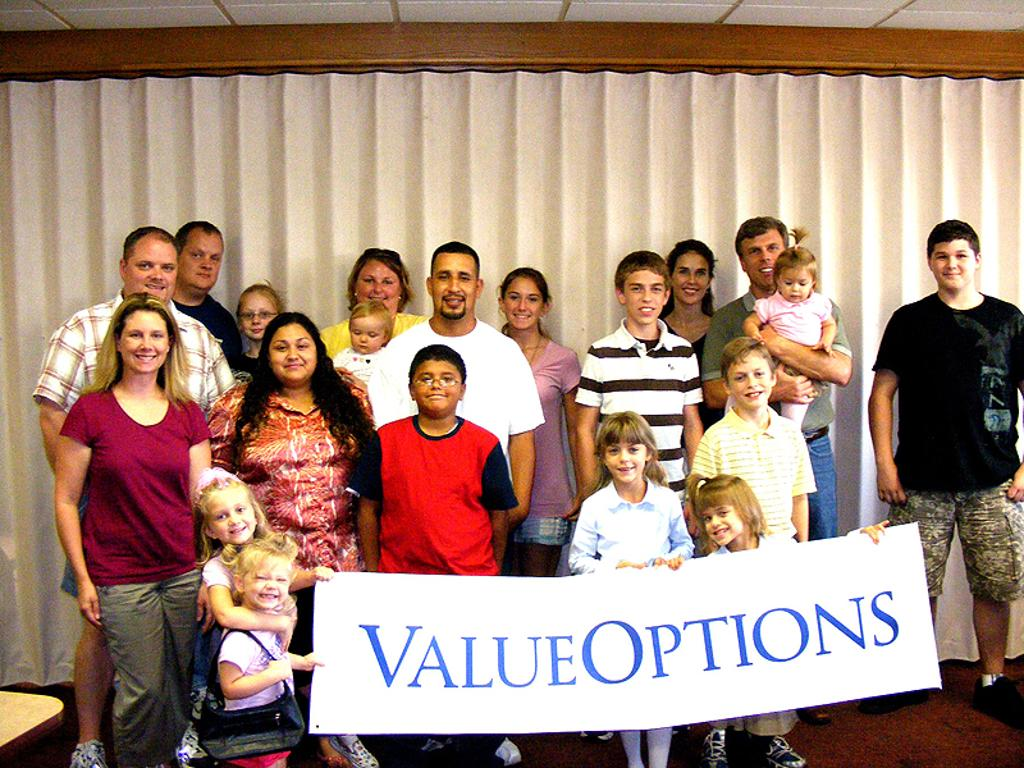face: (127, 246, 177, 306), (120, 316, 167, 371), (431, 261, 475, 316), (270, 331, 316, 378), (243, 561, 289, 608), (623, 273, 665, 322), (414, 365, 461, 408), (211, 498, 255, 543), (729, 360, 771, 407), (931, 245, 975, 288), (744, 239, 785, 285), (183, 241, 222, 288), (354, 267, 400, 305), (605, 439, 646, 481), (703, 501, 743, 543), (503, 284, 542, 327), (673, 259, 709, 302), (238, 301, 278, 338), (779, 270, 812, 301), (351, 320, 383, 351)
